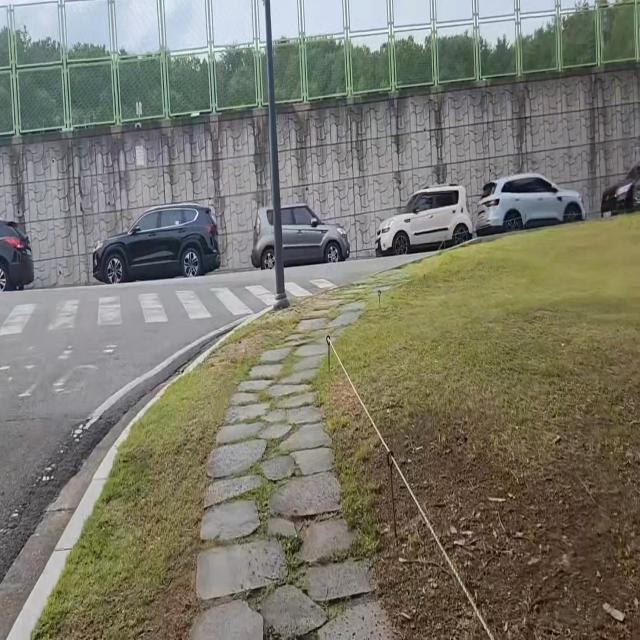obstacle: (262, 0, 292, 305), (472, 166, 591, 240)
road: (0, 250, 437, 640)
